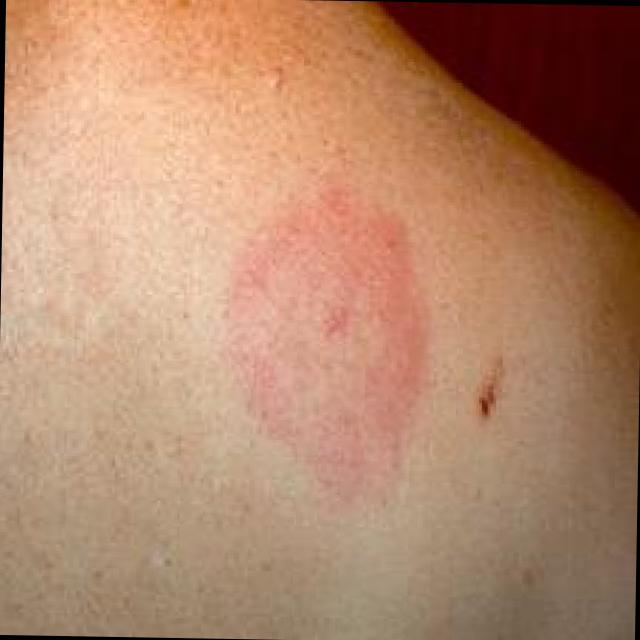kene: (91, 145, 503, 514)
